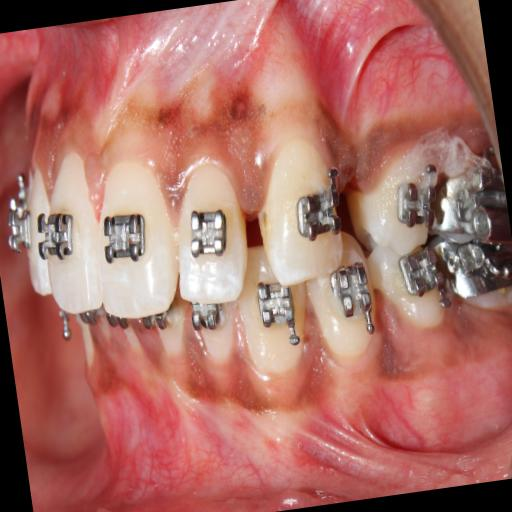correct_brace: (349, 148, 444, 264), (181, 194, 235, 273), (99, 202, 155, 272), (32, 196, 84, 270), (292, 178, 346, 246)
incorrect_brace: (170, 158, 256, 318), (392, 170, 437, 234)
